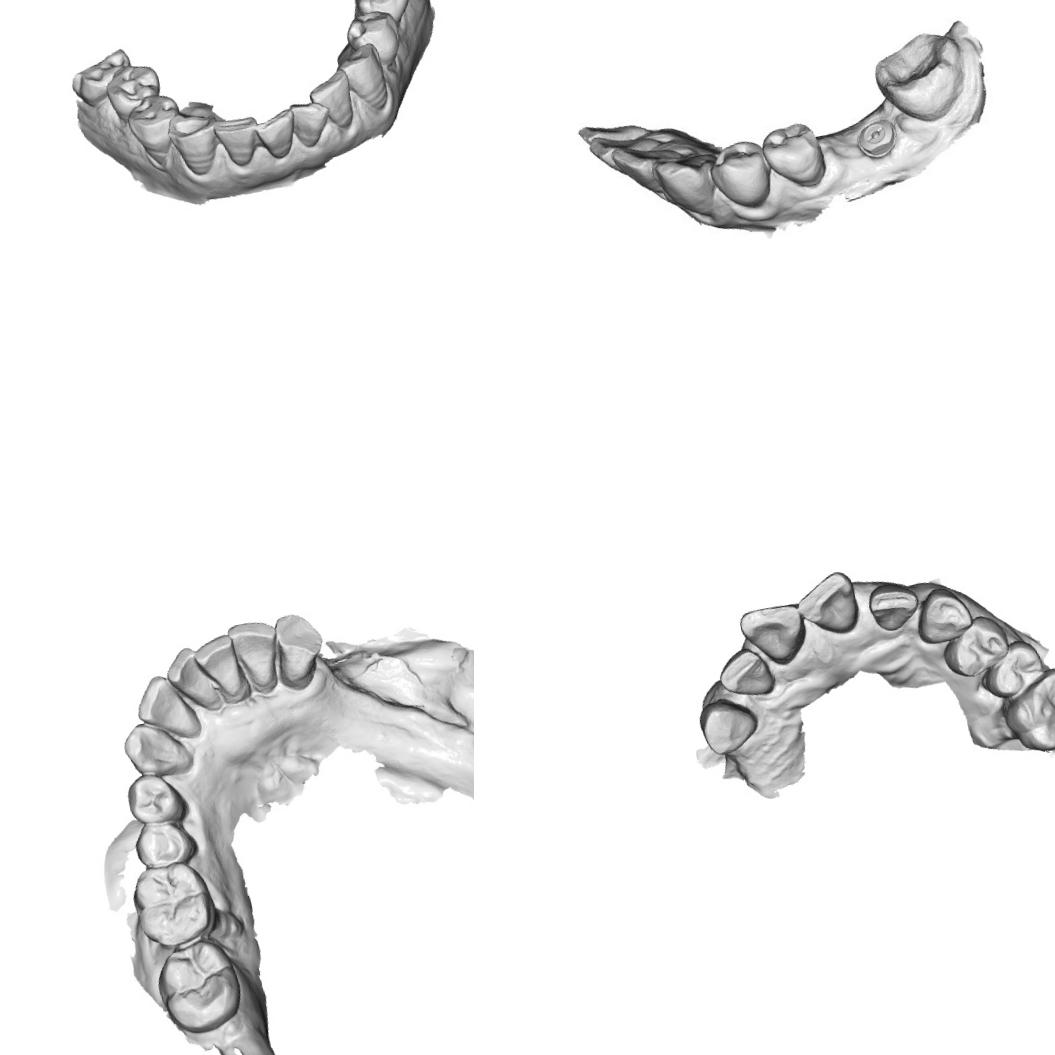canine: (264, 605, 331, 690), (115, 713, 192, 783), (332, 38, 399, 118), (652, 148, 725, 219), (693, 690, 764, 761), (908, 580, 977, 648), (164, 106, 223, 180)
implant_minus: (850, 112, 904, 164)
incisor: (128, 666, 209, 750), (734, 594, 813, 673), (789, 565, 865, 644), (158, 640, 222, 719), (226, 614, 288, 694), (187, 630, 248, 706), (712, 640, 783, 704), (611, 137, 674, 203), (303, 66, 360, 137), (862, 573, 925, 636), (211, 112, 265, 172), (586, 126, 640, 181), (252, 104, 302, 163), (286, 95, 334, 152)
molar: (865, 25, 976, 129), (148, 934, 250, 1042), (122, 854, 230, 956), (992, 660, 1055, 760)
premolar: (935, 608, 1016, 684), (757, 114, 832, 196), (972, 633, 1052, 706), (98, 54, 171, 128), (124, 811, 206, 875), (706, 136, 772, 212), (118, 768, 191, 830), (124, 88, 184, 160), (340, 6, 404, 72), (347, 0, 412, 33)
